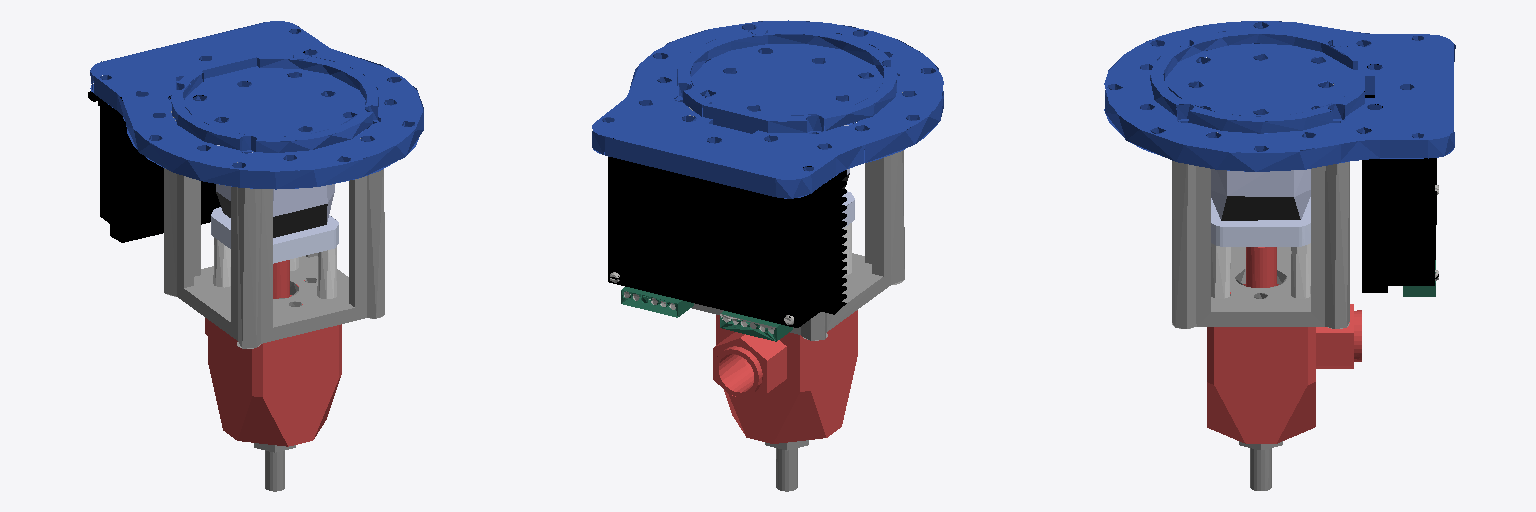
URDF robot description (asArm):
<?xml version="1.0" encoding="utf-8"?>
<!-- =================================================================================== -->
<!-- |    This document was autogenerated by xacro from as.xacro                       | -->
<!-- |    EDITING THIS FILE BY HAND IS NOT RECOMMENDED                                 | -->
<!-- =================================================================================== -->
<robot name="asArm" xmlns:controller="http://playerstage.sourceforge.net/gazebo/xmlschema/#controller" xmlns:interface="http://playerstage.sourceforge.net/gazebo/xmlschema/#interface" xmlns:sensor="http://playerstage.sourceforge.net/gazebo/xmlschema/#sensor">
  <!-- alluminium frame only -->
  <material name="Orange">
    <color rgba="1.0 0.4 0.0 1.0"/>
  </material>
  <material name="Grey">
    <color rgba="0.7 0.7 0.7 1.0"/>
  </material>
  <material name="DarkGrey">
    <color rgba="0.3 0.3 0.3 1.0"/>
  </material>
  <material name="White">
    <color rgba="1.0 1.0 1.0 1.0"/>
  </material>
  <material name="Black">
    <color rgba="0.0 0.0 0.0 1.0"/>
  </material>
  <material name="Red">
    <color rgba="1.0 0.0 0.0 1.0"/>
  </material>
  <material name="Green">
    <color rgba="0.0 1.0 0.0 1.0"/>
  </material>
  <material name="Blue">
    <color rgba="0.0 0.0 0.8 1.0"/>
  </material>
  <material name="LightGrey">
    <color rgba="0.82 0.82 0.82 1.0"/>
  </material>
  <material name="OrangeClear">
    <color rgba="1.0 0.4 0.0 .5"/>
  </material>
  <material name="GreyClear">
    <color rgba="0.7 0.7 0.7 .5"/>
  </material>
  <material name="DarkGreyClear">
    <color rgba="0.3 0.3 0.3 .5"/>
  </material>
  <material name="WhiteClear">
    <color rgba="1.0 1.0 1.0 .5"/>
  </material>
  <material name="BlackClear">
    <color rgba="0.0 0.0 0.0 .5"/>
  </material>
  <material name="RedClear">
    <color rgba="1.0 0.0 0.0 .5"/>
  </material>
  <material name="GreenClear">
    <color rgba="0.0 1.0 0.0 .5"/>
  </material>
  <material name="BlueClear">
    <color rgba="0.0 0.0 0.8 .5"/>
  </material>
  <material name="LightGreyClear">
    <color rgba="0.82 0.82 0.82 .5"/>
  </material>
  <!-- formation-->
  <!-- <xacro:as_base load_gazebo_plugin="$(arg load_gazebo_plugin)" />  -->
  <link name="base_link"/>
  <!--
  Author: [author] <[email redacted]>
  Contributers:
-->
  <joint name="xarmworld_joint" type="fixed">
    <parent link="base_link"/>
    <child link="xarmlink_base"/>
    <origin rpy="0 0 0" xyz="0.175 0 -0.053"/>
  </joint>
  <material name="xarmBlack">
    <color rgba="0.0 0.0 0.0 1.0"/>
  </material>
  <material name="xarmRed">
    <color rgba="0.8 0.0 0.0 1.0"/>
  </material>
  <material name="xarmWhite">
    <color rgba="1.0 1.0 1.0 1.0"/>
  </material>
  <material name="xarmSilver">
    <color rgba="0.753 0.753 0.753 1.0"/>
  </material>
  <link name="xarmlink_base">
    <visual>
      <geometry>
        <mesh filename="package://xarm_description/meshes/xarm6/visual/base.stl"/>
      </geometry>
      <origin rpy="0 0 0" xyz="0 0 0"/>
      <material name="xarmWhite"/>
    </visual>
    <collision>
      <geometry>
        <mesh filename="package://xarm_description/meshes/xarm6/visual/base.stl"/>
      </geometry>
      <origin rpy="0 0 0" xyz="0 0 0"/>
    </collision>
    <inertial>
      <origin rpy="0 0 0" xyz="0.0 0.0 0.09103"/>
      <mass value="2.7"/>
      <inertia ixx="0.00494875" ixy="-3.5E-06" ixz="1.25E-05" iyy="0.00494174" iyz="1.67E-06" izz="0.002219"/>
    </inertial>
  </link>
  <link name="xarmlink1">
    <visual>
      <geometry>
        <mesh filename="package://xarm_description/meshes/xarm6/visual/link1.stl"/>
      </geometry>
      <origin rpy="0 0 0" xyz="0 0 0"/>
      <material name="xarmWhite"/>
    </visual>
    <collision>
      <geometry>
        <mesh filename="package://xarm_description/meshes/xarm6/visual/link1.stl"/>
      </geometry>
      <origin rpy="0 0 0" xyz="0 0 0"/>
    </collision>
    <inertial>
      <origin rpy="0 0 0" xyz="-0.002 0.02692 -0.01332"/>
      <mass value="2.16"/>
      <inertia ixx="0.00539427" ixy="1.095E-05" ixz="1.635E-06" iyy="0.0048979" iyz="0.000793" izz="0.00311573"/>
    </inertial>
  </link>
  <joint name="xarmjoint1" type="revolute">
    <parent link="xarmlink_base"/>
    <child link="xarmlink1"/>
    <origin rpy="0 0 0" xyz="0 0 0.267"/>
    <axis xyz="0 0 1"/>
    <limit effort="50.0" lower="-3.11017672705" upper="3.11017672705" velocity="3.14"/>
    <dynamics damping="1.0" friction="1.0"/>
  </joint>
  <link name="xarmlink2">
    <visual>
      <geometry>
        <mesh filename="package://xarm_description/meshes/xarm6/visual/link2.stl"/>
      </geometry>
      <origin rpy="0 0 0" xyz="0 0 0"/>
      <material name="xarmWhite"/>
    </visual>
    <collision>
      <geometry>
        <mesh filename="package://xarm_description/meshes/xarm6/visual/link2.stl"/>
      </geometry>
      <origin rpy="0 0 0" xyz="0 0 0"/>
    </collision>
    <inertial>
      <origin rpy="0 0 0" xyz="0.03531 -0.21398 0.03386"/>
      <mass value="1.71"/>
      <inertia ixx="0.0248674" ixy="-0.00430651" ixz="-0.00067797" iyy="0.00485548" iyz="0.00457245" izz="0.02387827"/>
    </inertial>
  </link>
  <joint name="xarmjoint2" type="revolute">
    <parent link="xarmlink1"/>
    <child link="xarmlink2"/>
    <origin rpy="-1.5708 0 0" xyz="0 0 0"/>
    <axis xyz="0 0 1"/>
    <limit effort="50.0" lower="-2.059" upper="2.0944" velocity="3.14"/>
    <dynamics damping="1.0" friction="1.0"/>
  </joint>
  <link name="xarmlink3">
    <visual>
      <geometry>
        <mesh filename="package://xarm_description/meshes/xarm6/visual/link3.stl"/>
      </geometry>
      <origin rpy="0 0 0" xyz="0 0 0"/>
      <material name="xarmWhite"/>
    </visual>
    <collision>
      <geometry>
        <mesh filename="package://xarm_description/meshes/xarm6/visual/link3.stl"/>
      </geometry>
      <origin rpy="0 0 0" xyz="0 0 0"/>
    </collision>
    <inertial>
      <origin rpy="0 0 0" xyz="0.06781 0.10749 0.01457"/>
      <mass value="1.384"/>
      <inertia ixx="0.0053694" ixy="0.0014185" ixz="-0.00092094" iyy="0.0032423" iyz="-0.00169178" izz="0.00501731"/>
    </inertial>
  </link>
  <joint name="xarmjoint3" type="revolute">
    <parent link="xarmlink2"/>
    <child link="xarmlink3"/>
    <origin rpy="0 0 0" xyz="0.0535 -0.2845 0"/>
    <axis xyz="0 0 1"/>
    <limit effort="32.0" lower="-3.11017672705" upper="0.19198" velocity="3.14"/>
    <dynamics damping="1.0" friction="1.0"/>
  </joint>
  <link name="xarmlink4">
    <visual>
      <geometry>
        <mesh filename="package://xarm_description/meshes/xarm6/visual/link4.stl"/>
      </geometry>
      <origin rpy="0 0 0" xyz="0 0 0"/>
      <material name="xarmWhite"/>
    </visual>
    <collision>
      <geometry>
        <mesh filename="package://xarm_description/meshes/xarm6/visual/link4.stl"/>
      </geometry>
      <origin rpy="0 0 0" xyz="0 0 0"/>
    </collision>
    <inertial>
      <origin rpy="0 0 0" xyz="-0.00021 0.02578 -0.02538"/>
      <mass value="1.115"/>
      <inertia ixx="0.00439263" ixy="5.028E-05" ixz="1.374E-05" iyy="0.0040077" iyz="0.00045338" izz="0.00110321"/>
    </inertial>
  </link>
  <joint name="xarmjoint4" type="revolute">
    <parent link="xarmlink3"/>
    <child link="xarmlink4"/>
    <origin rpy="-1.5708 0 0" xyz="0.0775 0.3425 0"/>
    <axis xyz="0 0 1"/>
    <limit effort="32.0" lower="-3.11017672705" upper="3.11017672705" velocity="3.14"/>
    <dynamics damping="1.0" friction="1.0"/>
  </joint>
  <link name="xarmlink5">
    <visual>
      <geometry>
        <mesh filename="package://xarm_description/meshes/xarm6/visual/link5.stl"/>
      </geometry>
      <origin rpy="0 0 0" xyz="0 0 0"/>
      <material name="xarmWhite"/>
    </visual>
    <collision>
      <geometry>
        <mesh filename="package://xarm_description/meshes/xarm6/visual/link5.stl"/>
      </geometry>
      <origin rpy="0 0 0" xyz="0 0 0"/>
    </collision>
    <inertial>
      <origin rpy="0 0 0" xyz="0.05428 0.01781 0.00543"/>
      <mass value="1.275"/>
      <inertia ixx="0.001202758" ixy="0.000492428" ixz="-0.00039147" iyy="0.0022876" iyz="-1.235E-04" izz="0.0026866"/>
    </inertial>
  </link>
  <joint name="xarmjoint5" type="revolute">
    <parent link="xarmlink4"/>
    <child link="xarmlink5"/>
    <origin rpy="1.5708 0 0" xyz="0 0 0"/>
    <axis xyz="0 0 1"/>
    <limit effort="32.0" lower="-1.69297" upper="3.11017672705" velocity="3.14"/>
    <dynamics damping="1.0" friction="1.0"/>
  </joint>
  <link name="xarmlink6">
    <visual>
      <geometry>
        <mesh filename="package://xarm_description/meshes/xarm6/visual/link6.stl"/>
      </geometry>
      <origin rpy="0 0 0" xyz="0 0 0"/>
      <material name="xarmSilver"/>
    </visual>
    <collision>
      <geometry>
        <mesh filename="package://xarm_description/meshes/xarm6/visual/link6.stl"/>
      </geometry>
      <origin rpy="0 0 0" xyz="0 0 0"/>
    </collision>
    <inertial>
      <origin rpy="0 0 0" xyz="0 0.00064 -0.00952"/>
      <mass value="0.1096"/>
      <inertia ixx="4.5293E-05" ixy="0" ixz="0" iyy="4.8111E-05" iyz="0" izz="7.9715E-05"/>
    </inertial>
  </link>
  <joint name="xarmjoint6" type="revolute">
    <parent link="xarmlink5"/>
    <child link="xarmlink6"/>
    <origin rpy="-1.5708 0 0" xyz="0.076 0.097 0"/>
    <axis xyz="0 0 1"/>
    <limit effort="20.0" lower="-3.11017672705" upper="3.11017672705" velocity="3.14"/>
    <dynamics damping="1.0" friction="1.0"/>
  </joint>
  <link name="xarmlink_eef"/>
  <joint name="xarmjoint_eef" type="fixed">
    <origin rpy="0 0 0" xyz="0 0 0"/>
    <parent link="xarmlink6"/>
    <child link="xarmlink_eef"/>
  </joint>
  <transmission name="xarmtran1">
    <type>transmission_interface/SimpleTransmission</type>
    <joint name="xarmjoint1">
      <hardwareInterface>hardware_interface/PositionJointInterface</hardwareInterface>
    </joint>
    <actuator name="xarmmotor1">
      <hardwareInterface>hardware_interface/PositionJointInterface</hardwareInterface>
      <mechanicalReduction>100</mechanicalReduction>
    </actuator>
  </transmission>
  <transmission name="xarmtran2">
    <type>transmission_interface/SimpleTransmission</type>
    <joint name="xarmjoint2">
      <hardwareInterface>hardware_interface/PositionJointInterface</hardwareInterface>
    </joint>
    <actuator name="xarmmotor2">
      <hardwareInterface>hardware_interface/PositionJointInterface</hardwareInterface>
      <mechanicalReduction>100</mechanicalReduction>
    </actuator>
  </transmission>
  <transmission name="xarmtran3">
    <type>transmission_interface/SimpleTransmission</type>
    <joint name="xarmjoint3">
      <hardwareInterface>hardware_interface/PositionJointInterface</hardwareInterface>
    </joint>
    <actuator name="xarmmotor3">
      <hardwareInterface>hardware_interface/PositionJointInterface</hardwareInterface>
      <mechanicalReduction>100</mechanicalReduction>
    </actuator>
  </transmission>
  <transmission name="xarmtran4">
    <type>transmission_interface/SimpleTransmission</type>
    <joint name="xarmjoint4">
      <hardwareInterface>hardware_interface/PositionJointInterface</hardwareInterface>
    </joint>
    <actuator name="xarmmotor3">
      <hardwareInterface>hardware_interface/PositionJointInterface</hardwareInterface>
      <mechanicalReduction>100</mechanicalReduction>
    </actuator>
  </transmission>
  <transmission name="xarmtran5">
    <type>transmission_interface/SimpleTransmission</type>
    <joint name="xarmjoint5">
      <hardwareInterface>hardware_interface/PositionJointInterface</hardwareInterface>
    </joint>
    <actuator name="xarmmotor5">
      <hardwareInterface>hardware_interface/PositionJointInterface</hardwareInterface>
      <mechanicalReduction>100</mechanicalReduction>
    </actuator>
  </transmission>
  <transmission name="xarmtran6">
    <type>transmission_interface/SimpleTransmission</type>
    <joint name="xarmjoint6">
      <hardwareInterface>hardware_interface/PositionJointInterface</hardwareInterface>
    </joint>
    <actuator name="xarmmotor6">
      <hardwareInterface>hardware_interface/PositionJointInterface</hardwareInterface>
      <mechanicalReduction>100</mechanicalReduction>
    </actuator>
  </transmission>
  <gazebo reference="xarmlink_base">
    <selfCollide>true</selfCollide>
  </gazebo>
  <gazebo reference="xarmlink1">
    <selfCollide>true</selfCollide>
  </gazebo>
  <gazebo reference="xarmlink2">
    <selfCollide>true</selfCollide>
  </gazebo>
  <gazebo reference="xarmlink3">
    <selfCollide>true</selfCollide>
  </gazebo>
  <gazebo reference="xarmlink4">
    <selfCollide>true</selfCollide>
  </gazebo>
  <gazebo reference="xarmlink5">
    <selfCollide>true</selfCollide>
  </gazebo>
  <gazebo reference="xarmlink6">
    <selfCollide>true</selfCollide>
  </gazebo>
  <joint name="extruder_joint" type="fixed">
    <parent link="xarmlink_eef"/>
    <child link="extruder_link"/>
    <origin rpy="0 0 -1.57079632679" xyz="0 0 0.085"/>
  </joint>
  <link name="extruder_link">
    <inertial>
      <origin rpy="0 0 0" xyz="0 0 0"/>
      <mass value="1.05"/>
      <inertia ixx="0.003185" ixy="0" ixz="0" iyy="0.003185" iyz="0" izz="0.0013125"/>
    </inertial>
    <visual>
      <origin rpy="0 0 0" xyz="0 0 -0.085"/>
      <geometry>
        <mesh filename="package://as_description/meshes/extruder.dae"/>
      </geometry>
    </visual>
    <collision>
      <origin rpy="0 0 0" xyz="0 0 -0.085"/>
      <geometry>
        <mesh filename="package://as_description/meshes/extruder_collision.dae"/>
      </geometry>
    </collision>
  </link>
  <link name="extruder_ee"/>
  <joint name="extruder_ee_joint" type="fixed">
    <parent link="extruder_link"/>
    <child link="extruder_ee"/>
    <origin rpy="0 0 0" xyz="0 0 0.085"/>
  </joint>
  <!-- Gazebo: My current understanding is that libgazebo_ros_control is a per-model-plugin
      and most recent spawn will override the last one. So there is no nice way to namespace this.
      Therefore the approach here disables individual base/arm plugins and launches a common one -->
  <gazebo>
    <plugin filename="libgazebo_ros_control.so" name="armstone_gazebo_ros_control">
      <robotNamespace>/as_control</robotNamespace>
    </plugin>
  </gazebo>
</robot>

--- Facts derived from the render (not from the file) ---
3 views of the same robot in one strip: view 1: azimuth 30°, elevation 25°; view 2: azimuth 150°, elevation 25°; view 3: azimuth 270°, elevation 25° (orthographic).
Model asArm with 11 links and 10 joints (6 revolute, 4 fixed), rooted at base_link, posed all joints at 0.
Visible links, largest first — view 1: extruder_link; view 2: extruder_link; view 3: extruder_link.
Link boxes in pixels (box(x1,y1,x2,y2)): extruder_link: box(88, 21, 423, 491); extruder_link: box(592, 20, 943, 491); extruder_link: box(1104, 21, 1455, 490).
Bounding box of the posed robot: 0.1212 × 0.1355 × 0.175 m (x, y, z).
1 mesh visuals loaded from 8 distinct referenced files (1 Collada DAE); not drawn: 7 (reference not matched to a file when rendering).